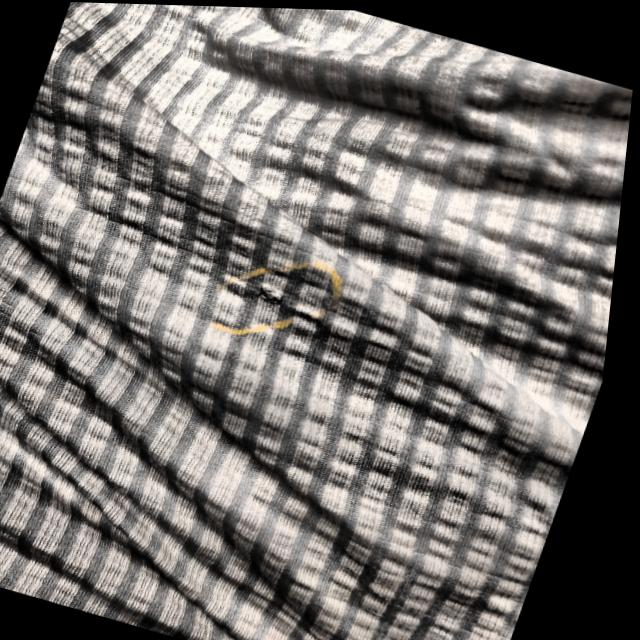Hole: (257, 275, 303, 310)
